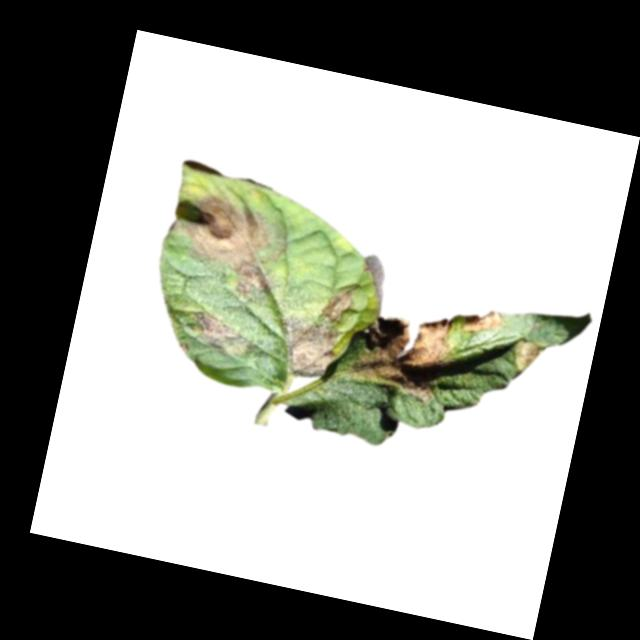Late_blight: (171, 190, 293, 302), (344, 298, 460, 407), (270, 314, 343, 384), (185, 308, 259, 364), (459, 303, 508, 341), (508, 336, 547, 378), (320, 285, 354, 323)
